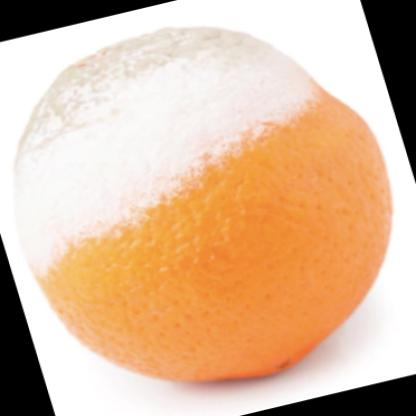rotten: (13, 29, 394, 378)
